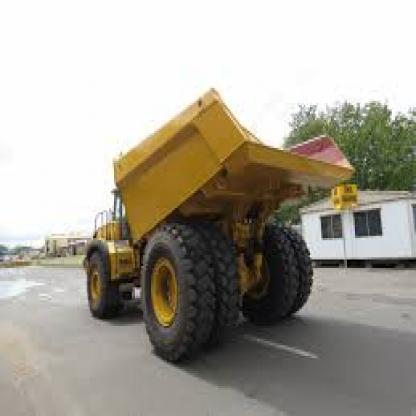dump_truck: (78, 88, 356, 367)
